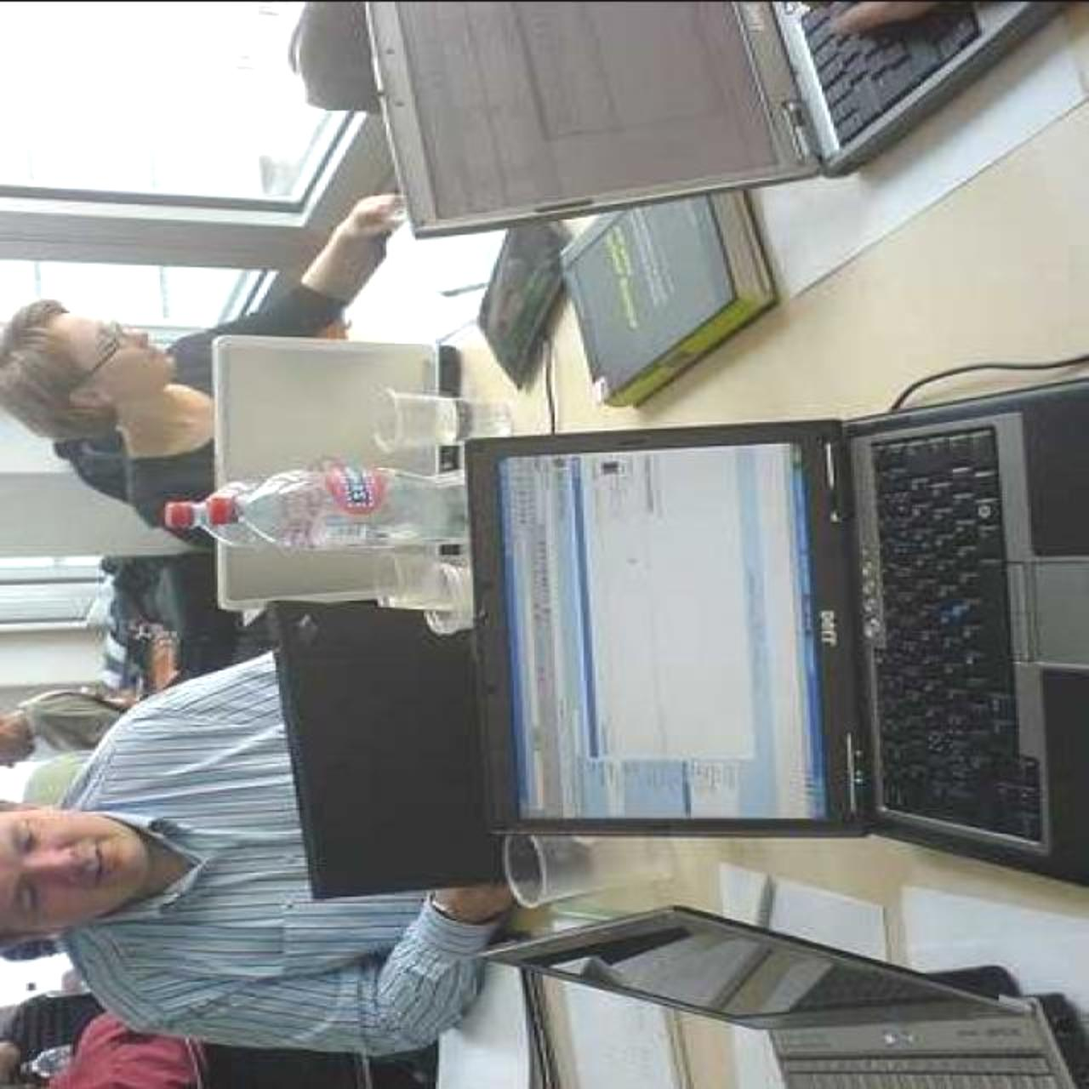laptop: (461, 373, 1070, 887), (364, 0, 1031, 231), (526, 905, 1087, 1089), (260, 613, 522, 898), (211, 323, 446, 609)
